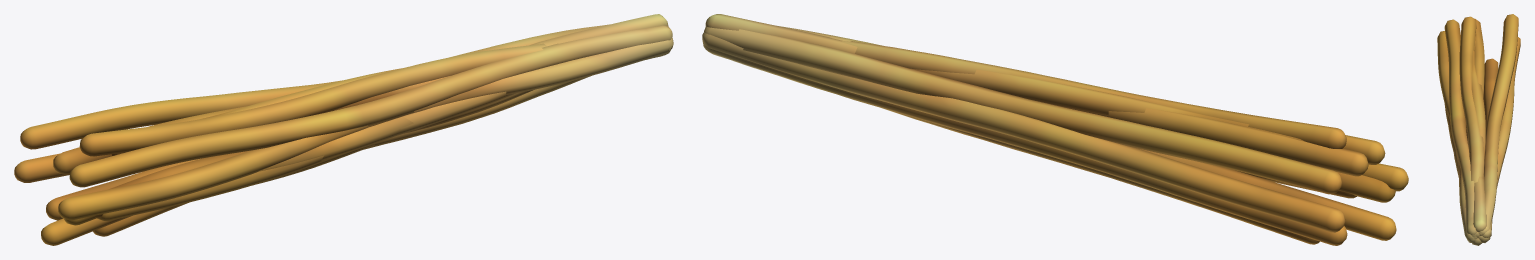
File: kinetochore-fibre.glb
3 views of the same model, side by side, from view 1: azimuth 30°, elevation 25°; view 2: azimuth 150°, elevation 25°; view 3: azimuth 270°, elevation 25° (orthographic). The views are drawn at different scales.
Visible parts, largest first — view 1: kinetochore-fibre-microtubules; view 2: kinetochore-fibre-microtubules; view 3: kinetochore-fibre-microtubules.
Boxes of the visible parts, left/top/right/bottom form: kinetochore-fibre-microtubules: left=14, top=14, right=673, bottom=245; kinetochore-fibre-microtubules: left=702, top=14, right=1408, bottom=245; kinetochore-fibre-microtubules: left=1437, top=14, right=1520, bottom=245.
Size of what is drawn, in the model's own units: 1.03 by 0.1675 by 0.1766.
